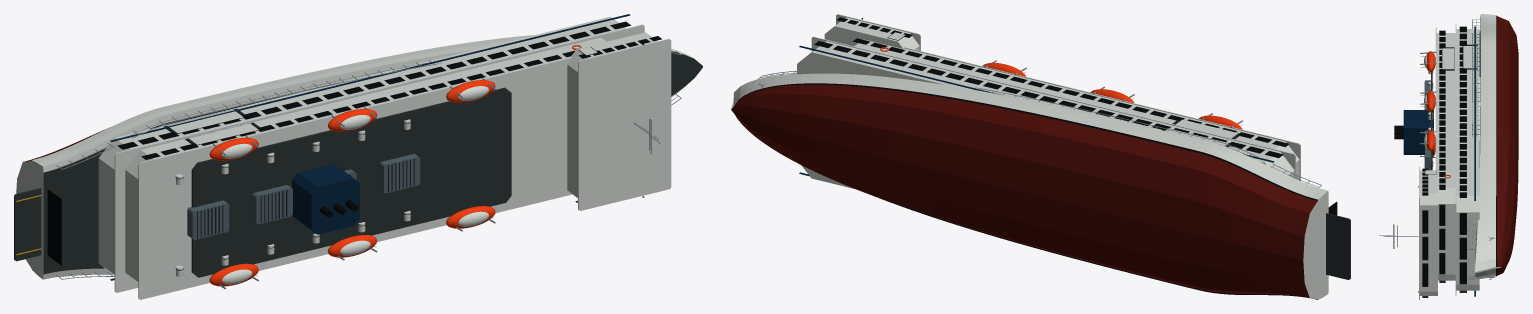
File: ferry.obj
3 views of the same model, side by side, from view 1: azimuth 30°, elevation 25°; view 2: azimuth 150°, elevation 25°; view 3: azimuth 270°, elevation 25° (orthographic). The views are drawn at different scales.
Size of the model in its own units: 74.9 by 16.48 by 19.25.
